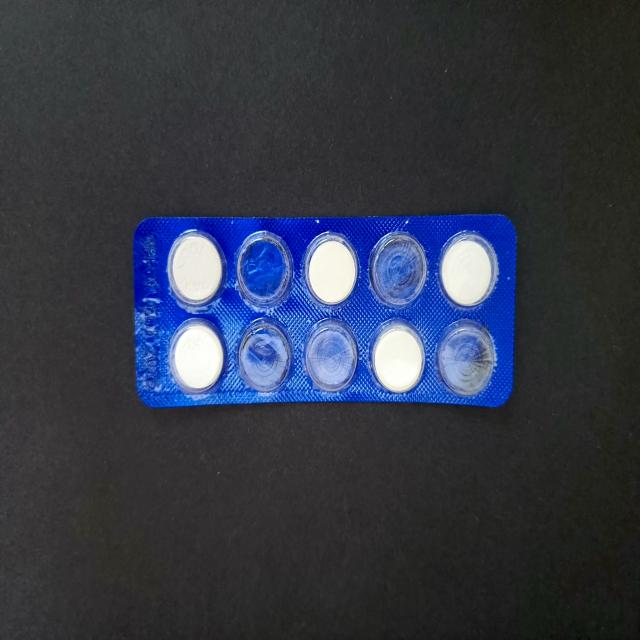defect: (434, 316, 496, 399), (234, 228, 295, 312), (366, 228, 428, 310), (234, 314, 295, 395), (301, 316, 361, 394)
